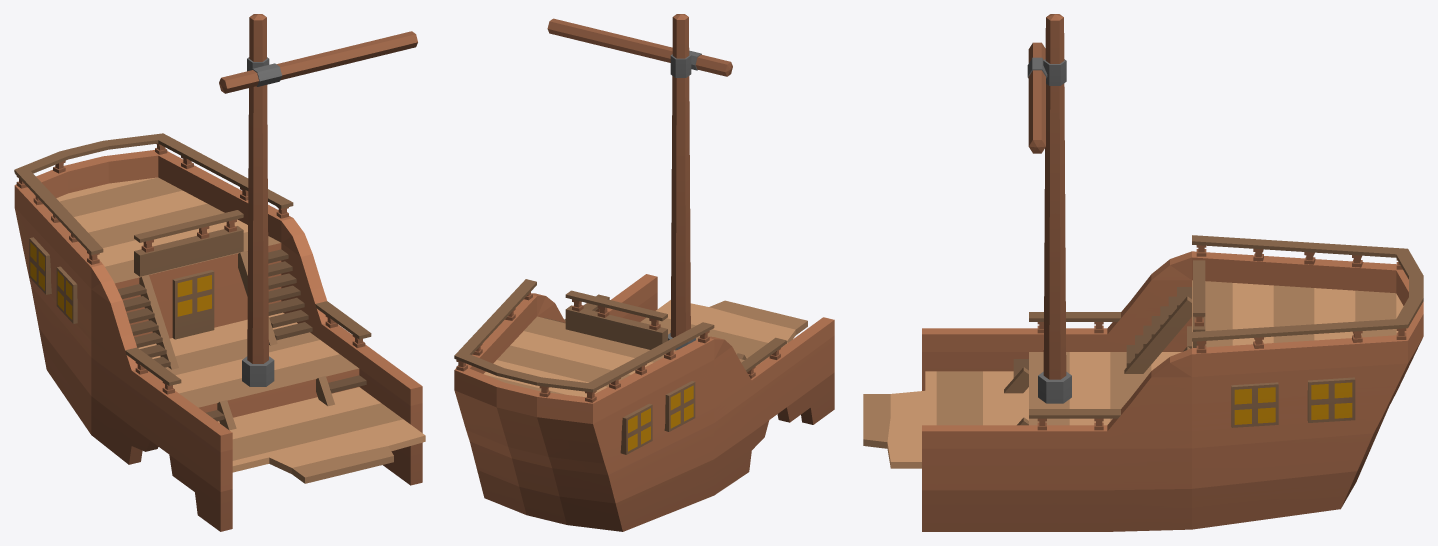
The model's file is destroyed ship.fbx.
3 views of the same model, side by side, from view 1: azimuth 30°, elevation 25°; view 2: azimuth 150°, elevation 25°; view 3: azimuth 270°, elevation 25° (orthographic). The views are drawn at different scales.
Visible parts, largest first — view 1: destroyed ship; view 2: destroyed ship; view 3: destroyed ship.
Boxes of the visible parts, x1,y1,x2,y2 form: destroyed ship: (14,14,425,531); destroyed ship: (454,14,834,531); destroyed ship: (863,14,1423,531).
Bounding box in the file's own units: 718 × 1221 × 1329.
